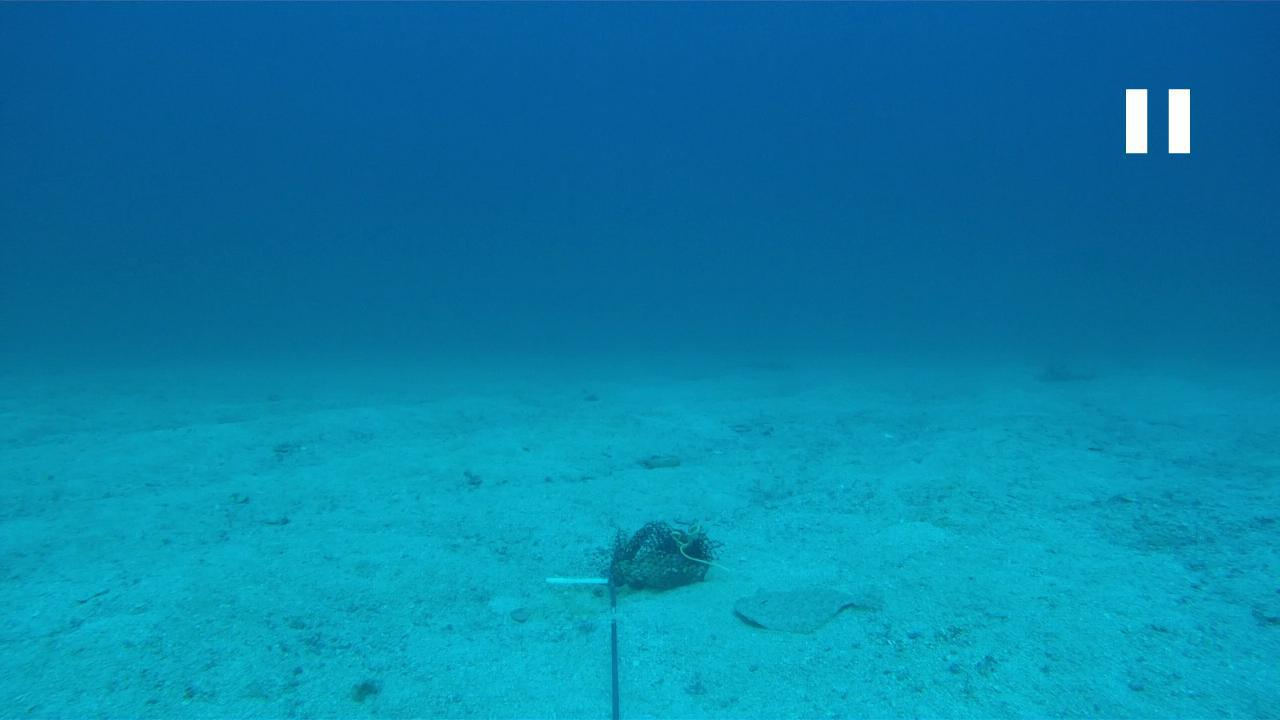bothus: (733, 580, 877, 637)
